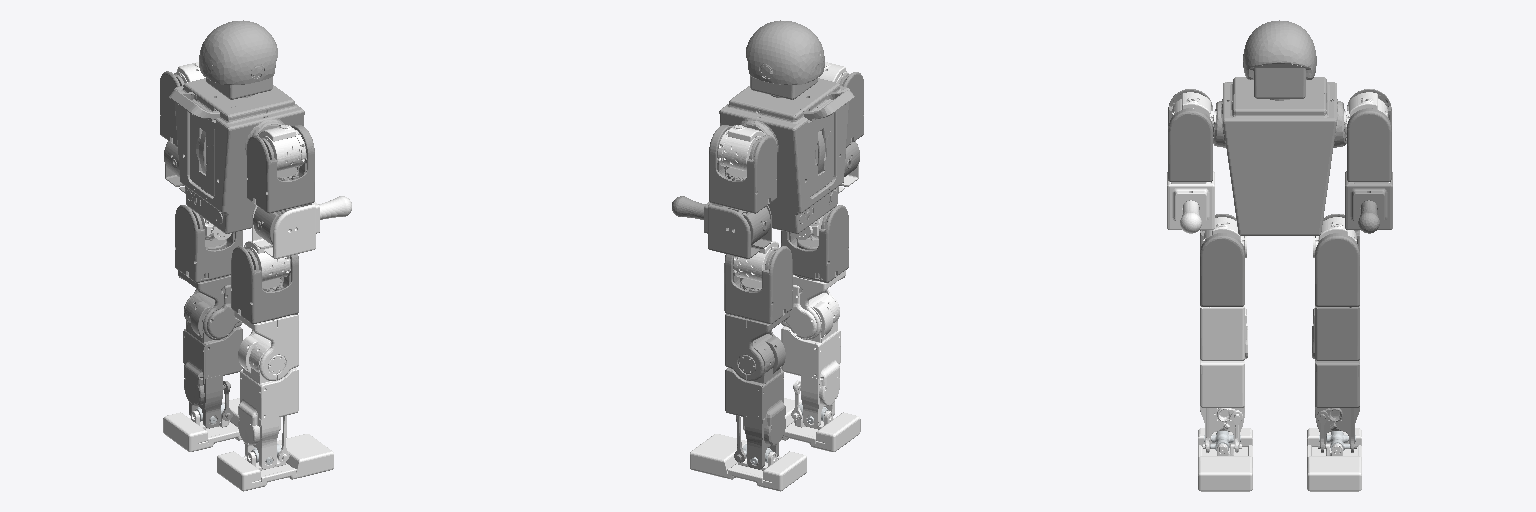
--- What the picture shows (computed from the rendered views, not written in the file) ---
The picture shows the robot from 3 angles, left to right: view 1: azimuth 30°, elevation 25°; view 2: azimuth 150°, elevation 25°; view 3: azimuth 270°, elevation 25°; orthographic projection.
Model nix1 with 22 links and 21 joints (21 revolute), rooted at pelvis, posed every joint at zero.
Links seen in each view (by area): view 1: torso_link, right_knee_link, left_knee_link, right_shoulder_roll_link, right_hip_roll_link, right_ankle_roll_link, left_hip_roll_link, right_elbow_link, right_hip_yaw_link, left_ankle_roll_link, left_hip_yaw_link, right_shoulder_pitch_link (+3 smaller); view 2: torso_link, left_knee_link, right_knee_link, left_shoulder_roll_link, left_hip_roll_link, left_ankle_roll_link, right_hip_roll_link, left_elbow_link, left_hip_yaw_link, right_ankle_roll_link, right_hip_yaw_link, left_shoulder_pitch_link (+3 smaller); view 3: torso_link, right_shoulder_roll_link, left_shoulder_roll_link, right_knee_link, left_knee_link, left_hip_roll_link, right_hip_roll_link, left_ankle_roll_link, right_ankle_roll_link, right_hip_yaw_link, left_hip_yaw_link, right_elbow_link (+5 smaller).
Link boxes in pixels (x1=…): torso_link: x1=169, y1=20, x2=304, y2=233; right_knee_link: x1=238, y1=334, x2=298, y2=469; left_knee_link: x1=183, y1=293, x2=242, y2=428; right_shoulder_roll_link: x1=247, y1=125, x2=314, y2=213; right_hip_roll_link: x1=231, y1=246, x2=298, y2=323; right_ankle_roll_link: x1=217, y1=434, x2=333, y2=491; left_hip_roll_link: x1=175, y1=205, x2=242, y2=282; right_elbow_link: x1=252, y1=196, x2=351, y2=258; right_hip_yaw_link: x1=234, y1=311, x2=298, y2=380; left_ankle_roll_link: x1=163, y1=398, x2=280, y2=451; left_hip_yaw_link: x1=178, y1=270, x2=242, y2=339; right_shoulder_pitch_link: x1=259, y1=125, x2=305, y2=170; torso_link: x1=719, y1=20, x2=854, y2=233; left_knee_link: x1=725, y1=334, x2=785, y2=469; right_knee_link: x1=781, y1=293, x2=840, y2=428; left_shoulder_roll_link: x1=709, y1=125, x2=776, y2=213; left_hip_roll_link: x1=724, y1=246, x2=792, y2=323; left_ankle_roll_link: x1=690, y1=434, x2=806, y2=491; right_hip_roll_link: x1=781, y1=205, x2=848, y2=282; left_elbow_link: x1=672, y1=196, x2=771, y2=258; left_hip_yaw_link: x1=725, y1=311, x2=789, y2=380; right_ankle_roll_link: x1=743, y1=398, x2=860, y2=451; right_hip_yaw_link: x1=781, y1=270, x2=845, y2=339; left_shoulder_pitch_link: x1=718, y1=125, x2=764, y2=170; torso_link: x1=1213, y1=20, x2=1346, y2=235; right_shoulder_roll_link: x1=1168, y1=89, x2=1212, y2=181; left_shoulder_roll_link: x1=1347, y1=89, x2=1391, y2=181; right_knee_link: x1=1200, y1=360, x2=1244, y2=452; left_knee_link: x1=1315, y1=360, x2=1359, y2=452; left_hip_roll_link: x1=1315, y1=214, x2=1359, y2=306; right_hip_roll_link: x1=1200, y1=214, x2=1244, y2=306; left_ankle_roll_link: x1=1307, y1=428, x2=1361, y2=491; right_ankle_roll_link: x1=1198, y1=428, x2=1252, y2=491; right_hip_yaw_link: x1=1200, y1=305, x2=1247, y2=360; left_hip_yaw_link: x1=1312, y1=306, x2=1359, y2=360; right_elbow_link: x1=1167, y1=171, x2=1214, y2=233.
Bounding box of the posed robot: 0.2751 × 0.4133 × 0.8866 m (x, y, z).
Meshes: 22 distinct files referenced, 21 mesh visuals loaded (21 binary STL); not drawn: 1 (reference not matched to a file when rendering).

The robot description file, URDF, robot "nix1":
<?xml version="1.0" encoding="utf-8"?>
<!-- This URDF was automatically created by SolidWorks to URDF Exporter! Originally created by Stephen Brawner ([email redacted]) 
     Commit Version: 1.6.0-4-g7f85cfe  Build Version: 1.6.7995.38578
     For more information, please see http://wiki.ros.org/sw_urdf_exporter -->
<robot name="nix1">
  <mujoco>
        <compiler meshdir="../meshes" discardvisual="false" />
  </mujoco>

  <link name="pelvis">
    <inertial>
      <origin xyz="-0.0009 0 -0.0004" rpy="0 0 0" />
      <mass value="1.616" />
      <inertia
        ixx="0.002888289"
        ixy="-0.000000784"
        ixz="-0.000035362"
        iyy="0.001442911"
        iyz="0.000000285"
        izz="0.002801285" />
    </inertial>
    <visual>
      <origin xyz="0 0 0" rpy="0 0 0" />
      <geometry>
        <mesh filename="../meshes/pelvis.STL" />
      </geometry>
      <material name="a">
        <color rgba="1 1 1 1" />
      </material>
    </visual>
    <!-- <collision>
      <origin xyz="0 0 0" rpy="0 0 0" />
      <geometry>
        <mesh filename="../meshes/pelvis.STL" />
      </geometry>
    </collision> -->
    <collision>
      <origin xyz="-0.00493 0 -0.007691" rpy="0 0 0" />
      <geometry>
        <box size = "0.07974 0.095374 0.1"/>
      </geometry>
    </collision>
  </link>

  <link name="left_hip_pitch_link">
    <inertial>
      <origin xyz="-0.0005 0.0428 0.0007" rpy="0 0 0" />
      <mass value="0.766" />
      <inertia
        ixx="0.000523261"
        ixy="0.000001613"
        ixz="0.000003184"
        iyy="0.000467986"
        iyz="0.000000663"
        izz="0.000514759" />
    </inertial>
    <visual>
      <origin xyz="0 0 0" rpy="0 0 0" />
      <geometry>
        <mesh filename="../meshes/left_hip_pitch_link.STL" />
      </geometry>
      <material name="a">
        <color rgba="1 1 1 1" />
      </material>
    </visual>
    <!-- <collision>
      <origin xyz="0 0 0" rpy="0 0 0" />
      <geometry>
        <mesh filename="../meshes/left_hip_pitch_link.STL" />
      </geometry>
    </collision> -->
    <collision>
      <origin xyz="-0.005 0.044758 0" rpy="0 1.57 0" />
      <geometry>
        <cylinder radius="0.042" length="0.1" />
      </geometry>
    </collision>
  </link>
  <joint name="left_hip_pitch_joint" type="revolute">
    <origin xyz="0 0.0605 0" rpy="0 0 0" />
    <parent link="pelvis" />
    <child link="left_hip_pitch_link" />
    <axis xyz="0 1 0" />
    <limit lower="-1.6755" upper="1.5708" effort="102" velocity="14.6" />
  </joint>

  <link name="left_hip_roll_link">
    <inertial>
      <origin xyz="-0.003 -0.0001 -0.0605" rpy="0 0 0" />
      <mass value="0.991" />
      <inertia
        ixx="0.001405334"
        ixy="-0.000000352"
        ixz="-0.000042984"
        iyy="0.001746772"
        iyz="-0.000009023"
        izz="0.001160529" />
    </inertial>
    <visual>
      <origin xyz="0 0 0" rpy="0 0 0" />
      <geometry>
        <mesh filename="../meshes/left_hip_roll_link.STL" />
      </geometry>
      <material name="a">
        <color rgba="0.698039215686274 0.698039215686274 0.698039215686274 1" />
      </material>
    </visual>
    <!-- <collision>
      <origin xyz="0 0 0" rpy="0 0 0" />
      <geometry>
        <mesh filename="../meshes/left_hip_roll_link.STL" />
      </geometry>
    </collision> -->
    <collision>
      <origin xyz="-0.005435 0 -0.071586" rpy="0 0 0" />
      <geometry>
        <box size = "0.104 0.0812 0.05"/>
      </geometry>
    </collision>
  </link>
  <joint name="left_hip_roll_joint" type="revolute">
    <origin xyz="0 0.044758 0" rpy="0 0 0" />
    <parent link="left_hip_pitch_link" />
    <child link="left_hip_roll_link" />
    <axis xyz="1 0 0" />
    <limit lower="-0.0873" upper="1.8326" effort="102" velocity="14.6" />
  </joint>

  <link name="left_hip_yaw_link">
    <inertial>
      <origin xyz="0.012 0.0025 -0.0415" rpy="0 0 0" />
      <mass value="0.372" />
      <inertia
        ixx="0.000805835"
        ixy="0.000004162"
        ixz="0.000052835"
        iyy="0.000722265"
        iyz="0.000022463"
        izz="0.000556524" />
    </inertial>
    <visual>
      <origin xyz="0 0 0" rpy="0 0 0" />
      <geometry>
        <mesh filename="../meshes/left_hip_yaw_link.STL" />
      </geometry>
      <material name="a">
        <color rgba="0.698039215686274 0.698039215686274 0.698039215686274 1" />
      </material>
    </visual>
    <!-- <collision>
      <origin xyz="0 0 0" rpy="0 0 0" />
      <geometry>
        <mesh filename="../meshes/left_hip_yaw_link.STL" />
      </geometry>
    </collision> -->
    <collision>
      <origin xyz="0.00074 0 -0.053493" rpy="0 0 0" />
      <geometry>
        <box size = "0.0952 0.0812 0.107"/>
      </geometry>
    </collision>
  </link>
  <joint name="left_hip_yaw_joint" type="revolute">
    <origin xyz="-0.0037584 0 -0.104" rpy="0 0 0" />
    <parent link="left_hip_roll_link" />
    <child link="left_hip_yaw_link" />
    <axis xyz="0 0 1" />
    <limit lower="-1.2217" upper="2.0944" effort="102" velocity="14.6" />
  </joint>

  <link name="left_knee_link">
    <inertial>
      <origin xyz="-0.002 -0.0017 -0.071" rpy="0 0 0" />
      <mass value="1.984" />
      <inertia
        ixx="0.009004297"
        ixy="0.000001981"
        ixz="-0.000565720"
        iyy="0.009010355"
        iyz="-0.000336298"
        izz="0.001601147" />
    </inertial>
    <visual>
      <origin xyz="0 0 0" rpy="0 0 0" />
      <geometry>
        <mesh filename="../meshes/left_knee_link.STL" />
      </geometry>
      <material name="a">
        <color rgba="0.698039215686274 0.698039215686274 0.698039215686274 1" />
      </material>
    </visual>
    <!-- <collision>
      <origin xyz="0 0 0" rpy="0 0 0" />
      <geometry>
        <mesh filename="../meshes/left_knee_link.STL" />
      </geometry>
    </collision> -->
    <collision>
      <origin xyz="0.002367 0 -0.095618" rpy="0 0 0" />
      <geometry>
        <box size = "0.0912 0.08 0.148"/>
      </geometry>
    </collision>
  </link>
  <joint name="left_knee_joint" type="revolute">
    <origin xyz="0 0 -0.0915" rpy="0 0 0" />
    <parent link="left_hip_yaw_link" />
    <child link="left_knee_link" />
    <axis xyz="0 1 0" />
    <limit lower="-0.0873" upper="2.1817" effort="102" velocity="14.6" />
  </joint>

  <link name="left_ankle_pitch_link">
    <inertial>
      <origin xyz="0.0085 0.0004 0" rpy="0 0 0" />
      <mass value="0.086" />
      <inertia
        ixx="0.000021923"
        ixy="-0.000000874"
        ixz="0.000000001"
        iyy="0.000025690"
        iyz="0"
        izz="0.000042485" />
    </inertial>
    <visual>
      <origin xyz="0 0 0" rpy="0 0 0" />
      <geometry>
        <mesh filename="../meshes/left_ankle_pitch_link.STL" />
      </geometry>
      <material name="a">
        <color rgba="0.898039215686275 0.917647058823529 0.929411764705882 1" />
      </material>
    </visual>
    <!-- <collision>
      <origin xyz="0 0 0" rpy="0 0 0" />
      <geometry>
        <mesh filename="../meshes/left_ankle_pitch_link.STL" />
      </geometry>
    </collision> -->
  </link>
  <joint name="left_ankle_pitch_joint" type="revolute">
    <origin xyz="-0.011569 -0.0005 -0.19979" rpy="0 0 0" />
    <parent link="left_knee_link" />
    <child link="left_ankle_pitch_link" />
    <axis xyz="0 1 0" />
    <limit lower="-0.6109" upper="0.6109" effort="20" velocity="30" />
  </joint>

  <link name="left_ankle_roll_link">
    <inertial>
      <origin xyz="0.032 -0.0043 -0.027" rpy="0 0 0" />
      <mass value="0.375" />
      <inertia
        ixx="0.000301298"
        ixy="0.000007138"
        ixz="0.000014230"
        iyy="0.001232323"
        iyz="-0.000002953"
        izz="0.001436745" />
    </inertial>
    <visual>
      <origin xyz="0 0 0" rpy="0 0 0" />
      <geometry>
        <mesh filename="../meshes/left_ankle_roll_link.STL" />
      </geometry>
      <material name="a">
        <color rgba="1 1 1 1" />
      </material>
    </visual>
    <!-- <collision>
      <origin xyz="0 0 0" rpy="0 0 0" />
      <geometry>
        <mesh filename="../meshes/left_ankle_roll_link.STL" />
      </geometry>
    </collision> -->
    <collision>
      <origin xyz="-0.038 -0.005 -0.036" rpy="0 0 0" />
      <geometry>
        <box size = "0.048 0.1 0.016"/>
      </geometry>
    </collision>
    <collision>
      <origin xyz="0.0885 -0.005 -0.036" rpy="0 0 0" />
      <geometry>
        <box size = "0.09 0.1 0.016"/>
      </geometry>
    </collision>
  </link>
  <joint name="left_ankle_roll_joint" type="revolute">
    <origin xyz="0 0 0" rpy="0 0 0" />
    <parent link="left_ankle_pitch_link" />
    <child link="left_ankle_roll_link" />
    <axis xyz="1 0 0" />
    <limit lower="-0.3491" upper="0.3491" effort="20" velocity="30" />
  </joint>

  <link name="right_hip_pitch_link">
    <inertial>
      <origin xyz="-0.0005 -0.043 0.0006" rpy="0 0 0" />
      <mass value="0.766" />
      <inertia
        ixx="0.000523064"
        ixy="0.000000584"
        ixz="0.000002028"
        iyy="0.000466476"
        iyz="-0.000002781"
        izz="0.000516070" />
    </inertial>
    <visual>
      <origin xyz="0 0 0" rpy="0 0 0" />
      <geometry>
        <mesh filename="../meshes/right_hip_pitch_link.STL" />
      </geometry>
      <material name="a">
        <color rgba="1 1 1 1" />
      </material>
    </visual>
    <!-- <collision>
      <origin xyz="0 0 0" rpy="0 0 0" />
      <geometry>
        <mesh filename="../meshes/right_hip_pitch_link.STL" />
      </geometry>
    </collision> -->
    <collision>
      <origin xyz="-0.005 -0.044758 0" rpy="0 1.57 0" />
      <geometry>
        <cylinder radius="0.042" length="0.1" />
      </geometry>
    </collision>
  </link>
  <joint name="right_hip_pitch_joint" type="revolute">
    <origin xyz="0 -0.0605 0" rpy="0 0 0" />
    <parent link="pelvis" />
    <child link="right_hip_pitch_link" />
    <axis xyz="0 1 0" />
    <limit lower="-1.6755" upper="1.5708" effort="102" velocity="14.6" />
  </joint>

  <link name="right_hip_roll_link">
    <inertial>
      <origin xyz="-0.003 0.0002 -0.0605" rpy="0 0 0" />
      <mass value="0.991" />
      <inertia
        ixx="0.001405315"
        ixy="0.000001033"
        ixz="-0.000044718"
        iyy="0.001746703"
        iyz="0.000007108"
        izz="0.001160439" />
    </inertial>
    <visual>
      <origin xyz="0 0 0" rpy="0 0 0" />
      <geometry>
        <mesh filename="../meshes/right_hip_roll_link.STL" />
      </geometry>
      <material name="a">
        <color rgba="0.698039215686274 0.698039215686274 0.698039215686274 1" />
      </material>
    </visual>
    <!-- <collision>
      <origin xyz="0 0 0" rpy="0 0 0" />
      <geometry>
        <mesh filename="../meshes/right_hip_roll_link.STL" />
      </geometry>
    </collision> -->
    <collision>
      <origin xyz="-0.005435 0 -0.071586" rpy="0 0 0" />
      <geometry>
        <box size = "0.104 0.0812 0.05"/>
      </geometry>
    </collision>
  </link>
  <joint name="right_hip_roll_joint" type="revolute">
    <origin xyz="0 -0.044758 0" rpy="0 0 0" />
    <parent link="right_hip_pitch_link" />
    <child link="right_hip_roll_link" />
    <axis xyz="1 0 0" />
    <limit lower="-1.8326" upper="0.0873" effort="102" velocity="14.6" />
  </joint>

  <link name="right_hip_yaw_link">
    <inertial>
      <origin xyz="0.012 -0.0025 -0.0415" rpy="0 0 0" />
      <mass value="0.372" />
      <inertia
        ixx="0.000805788"
        ixy="-0.000004162"
        ixz="0.000005285"
        iyy="0.000722218"
        iyz="-0.000022483"
        izz="0.000556524" />
    </inertial>
    <visual>
      <origin xyz="0 0 0" rpy="0 0 0" />
      <geometry>
        <mesh filename="../meshes/right_hip_yaw_link.STL" />
      </geometry>
      <material name="a">
        <color rgba="1 1 1 1" />
      </material>
    </visual>
    <!-- <collision>
      <origin xyz="0 0 0" rpy="0 0 0" />
      <geometry>
        <mesh filename="../meshes/right_hip_yaw_link.STL" />
      </geometry>
    </collision> -->
    <collision>
      <origin xyz="0.00074 0 -0.053493" rpy="0 0 0" />
      <geometry>
        <box size = "0.0952 0.0812 0.107"/>
      </geometry>
    </collision>
  </link>
  <joint name="right_hip_yaw_joint" type="revolute">
    <origin xyz="-0.0037584 0 -0.104" rpy="0 0 0" />
    <parent link="right_hip_roll_link" />
    <child link="right_hip_yaw_link" />
    <axis xyz="0 0 1" />
    <limit lower="-2.0944" upper="1.2217" effort="102" velocity="14.6" />
  </joint>

  <link name="right_knee_link">
    <inertial>
      <origin xyz="-0.002 0.0017 -0.0711" rpy="0 0 0" />
      <mass value="1.984" />
      <inertia
        ixx="0.009013346"
        ixy="-0.000003493"
        ixz="-0.000565961"
        iyy="0.009019073"
        iyz="0.000334853"
        izz="0.001597885" />
    </inertial>
    <visual>
      <origin xyz="0 0 0" rpy="0 0 0" />
      <geometry>
        <mesh filename="../meshes/right_knee_link.STL" />
      </geometry>
      <material name="a">
        <color rgba="1 1 1 1" />
      </material>
    </visual>
    <!-- <collision>
      <origin xyz="0 0 0" rpy="0 0 0" />
      <geometry>
        <mesh filename="../meshes/right_knee_link.STL" />
      </geometry>
    </collision> -->
    <collision>
      <origin xyz="0.002367 0 -0.095618" rpy="0 0 0" />
      <geometry>
        <box size = "0.0912 0.08 0.148"/>
      </geometry>
    </collision>
  </link>
  <joint name="right_knee_joint" type="revolute">
    <origin xyz="0 0 -0.0915" rpy="0 0 0" />
    <parent link="right_hip_yaw_link" />
    <child link="right_knee_link" />
    <axis xyz="0 1 0" />
    <limit lower="-0.0873" upper="2.1817" effort="102" velocity="14.6" />
  </joint>

  <link name="right_ankle_pitch_link">
    <inertial>
      <origin xyz="0.0085 -0.0004 0" rpy="0 0 0" />
      <mass value="0.086" />
      <inertia
        ixx="0.000021923"
        ixy="0.000000875"
        ixz="-0.000000003"
        iyy="0.000025691"
        iyz="0.000000001"
        izz="0.000042484" />
    </inertial>
    <visual>
      <origin xyz="0 0 0" rpy="0 0 0" />
      <geometry>
        <mesh filename="../meshes/right_ankle_pitch_link.STL" />
      </geometry>
      <material name="a">
        <color rgba="0.898039215686275 0.917647058823529 0.929411764705882 1" />
      </material>
    </visual>
    <!-- <collision>
      <origin xyz="0 0 0" rpy="0 0 0" />
      <geometry>
        <mesh filename="../meshes/right_ankle_pitch_link.STL" />
      </geometry>
    </collision> -->
  </link>
  <joint name="right_ankle_pitch_joint" type="revolute">
    <origin xyz="-0.011569 0.0005 -0.19979" rpy="0 0 0" />
    <parent link="right_knee_link" />
    <child link="right_ankle_pitch_link" />
    <axis xyz="0 1 0" />
    <limit lower="-0.6109" upper="0.6109" effort="20" velocity="30" />
  </joint>

  <link name="right_ankle_roll_link">
    <inertial>
      <origin xyz="0.032 0.0043 -0.027" rpy="0 0 0" />
      <mass value="0.375" />
      <inertia
        ixx="0.000301298"
        ixy="-0.000007136"
        ixz="0.000014230"
        iyy="0.001232323"
        iyz="0.000002953"
        izz="0.001436745" />
    </inertial>
    <visual>
      <origin xyz="0 0 0" rpy="0 0 0" />
      <geometry>
        <mesh filename="../meshes/right_ankle_roll_link.STL" />
      </geometry>
      <material name="a">
        <color rgba="1 1 1 1" />
      </material>
    </visual>
    <!-- <collision>
      <origin xyz="0 0 0" rpy="0 0 0" />
      <geometry>
        <mesh filename="../meshes/right_ankle_roll_link.STL" />
      </geometry>
    </collision> -->
    <collision>
      <origin xyz="-0.038 0.005 -0.036" rpy="0 0 0" />
      <geometry>
        <box size = "0.048 0.1 0.016"/>
      </geometry>
    </collision>
    <collision>
      <origin xyz="0.0885 0.005 -0.036" rpy="0 0 0" />
      <geometry>
        <box size = "0.09 0.1 0.016"/>
      </geometry>
    </collision>
  </link>
  <joint name="right_ankle_roll_joint" type="revolute">
    <origin xyz="0 0 0" rpy="0 0 0" />
    <parent link="right_ankle_pitch_link" />
    <child link="right_ankle_roll_link" />
    <axis xyz="1 0 0" />
    <limit lower="-0.3491" upper="0.3491" effort="20" velocity="30" />
  </joint>

  <link name="torso_link">
    <inertial>
      <origin xyz="-0.0103 0 -0.0419" rpy="0 0 0" />
      <mass value="6.618" />
      <inertia
        ixx="0.063598754"
        ixy="0.000094329"
        ixz="0.001762585"
        iyy="0.055623416"
        iyz="0.000044694"
        izz="0.031791856" />
    </inertial>
    <visual>
      <origin xyz="0 0 0" rpy="0 0 0" />
      <geometry>
        <mesh filename="../meshes/torso_link.STL" />
      </geometry>
      <material name="a">
        <color rgba="0.752941176470588 0.752941176470588 0.752941176470588 1" />
      </material>
    </visual>
    <!-- <collision>
      <origin xyz="0 0 0" rpy="0 0 0" />
      <geometry>
        <mesh filename="../meshes/torso_link.STL" />
      </geometry>
    </collision> -->
    <collision>
      <origin xyz="0 0 -0.064322" rpy="0 0 0" />
      <geometry>
        <box size = "0.164 0.149 0.248"/>
      </geometry>
    </collision>
  </link>
  <joint name="torso_joint" type="revolute">
    <origin xyz="0 0 0.24776" rpy="0 0 0" />
    <parent link="pelvis" />
    <child link="torso_link" />
    <axis xyz="0 0 1" />
    <limit lower="-1.5708" upper="1.5708" effort="102" velocity="14.6" />
  </joint>

  <link name="left_shoulder_pitch_link">
    <inertial>
      <origin xyz="-0.0005 0.0423 0.0007" rpy="0 0 0" />
      <mass value="0.766" />
      <inertia
        ixx="0.000523261"
        ixy="0.000001613"
        ixz="0.000003184"
        iyy="0.000467986"
        iyz="0.000000664"
        izz="0.000514759" />
    </inertial>
    <visual>
      <origin xyz="0 0 0" rpy="0 0 0" />
      <geometry>
        <mesh filename="../meshes/left_shoulder_pitch_link.STL" />
      </geometry>
      <material name="a">
        <color rgba="1 1 1 1" />
      </material>
    </visual>
    <!-- <collision>
      <origin xyz="0 0 0" rpy="0 0 0" />
      <geometry>
        <mesh filename="../meshes/left_shoulder_pitch_link.STL" />
      </geometry>
    </collision> -->
    <collision>
      <origin xyz="-0.005 0.044258 0" rpy="0 1.57 0" />
      <geometry>
        <cylinder radius="0.042" length="0.1" />
      </geometry>
    </collision>
  </link>
  <joint name="left_shoulder_pitch_joint" type="revolute">
    <origin xyz="0 0.119 0" rpy="0.087266 0 0" />
    <parent link="torso_link" />
    <child link="left_shoulder_pitch_link" />
    <axis xyz="0 1 0" />
    <limit lower="-2.7925" upper="2.7925" effort="102" velocity="14.6" />
  </joint>

  <link name="left_shoulder_roll_link">
    <inertial>
      <origin xyz="-0.003 -0.0001 -0.0602" rpy="0 0 0" />
      <mass value="0.995" />
      <inertia
        ixx="0.001421423"
        ixy="-0.000000361"
        ixz="-0.000052940"
        iyy="0.001769014"
        iyz="-0.000009040"
        izz="0.001167652" />
    </inertial>
    <visual>
      <origin xyz="0 0 0" rpy="0 0 0" />
      <geometry>
        <mesh filename="../meshes/left_shoulder_roll_link.STL" />
      </geometry>
      <material name="a">
        <color rgba="0.698039215686274 0.698039215686274 0.698039215686274 1" />
      </material>
    </visual>
    <!-- <collision>
      <origin xyz="0 0 0" rpy="0 0 0" />
      <geometry>
        <mesh filename="../meshes/left_shoulder_roll_link.STL" />
      </geometry>
    </collision> -->
    <collision>
      <origin xyz="-0.005435 0 -0.071586" rpy="0 0 0" />
      <geometry>
        <box size = "0.104 0.0812 0.05"/>
      </geometry>
    </collision>
  </link>
  <joint name="left_shoulder_roll_joint" type="revolute">
    <origin xyz="0 0.044258 0" rpy="-0.087266 0 0" />
    <parent link="left_shoulder_pitch_link" />
    <child link="left_shoulder_roll_link" />
    <axis xyz="1 0 0" />
    <limit lower="0" upper="1.9199" effort="102" velocity="14.6" />
  </joint>

  <link name="left_shoulder_yaw_link">
    <inertial>
      <origin xyz="-0.0001 0.0011 -0.0404" rpy="0 0 0" />
      <mass value="0.855" />
      <inertia
        ixx="0.000625521"
        ixy="-0.000001372"
        ixz="0.000000262"
        iyy="0.000671958"
        iyz="0.000002802"
        izz="0.000594570" />
    </inertial>
    <visual>
      <origin xyz="0 0 0" rpy="0 0 0" />
      <geometry>
        <mesh filename="../meshes/left_shoulder_yaw_link.STL" />
      </geometry>
      <material name="a">
        <color rgba="0.698039215686274 0.698039215686274 0.698039215686274 1" />
      </material>
    </visual>
    <!-- <collision>
      <origin xyz="0 0 0" rpy="0 0 0" />
      <geometry>
        <mesh filename="../meshes/left_shoulder_yaw_link.STL" />
      </geometry>
    </collision> -->
  </link>
  <joint name="left_shoulder_yaw_joint" type="revolute">
    <origin xyz="-0.0037584 0 -0.104" rpy="0 0 0" />
    <parent link="left_shoulder_roll_link" />
    <child link="left_shoulder_yaw_link" />
    <axis xyz="0 0 1" />
    <limit lower="-1.885" upper="1.885" effort="102" velocity="14.6" />
  </joint>

  <link name="left_elbow_link">
    <inertial>
      <origin xyz="-0.0095 -0.0035 -0.040" rpy="0 0 0" />
      <mass value="0.353" />
      <inertia
        ixx="0.000977250"
        ixy="0.000003735"
        ixz="0.000101902"
        iyy="0.000907157"
        iyz="0.000035686"
        izz="0.000492087" />
    </inertial>
    <visual>
      <origin xyz="0 0 0" rpy="0 0 0" />
      <geometry>
        <mesh filename="../meshes/left_elbow_link.STL" />
      </geometry>
      <material name="a">
        <color rgba="0.698039215686274 0.698039215686274 0.698039215686274 1" />
      </material>
    </visual>
    <!-- <collision>
      <origin xyz="0 0 0" rpy="0 0 0" />
      <geometry>
        <mesh filename="../meshes/left_elbow_link.STL" />
      </geometry>
    </collision> -->
    <collision>
      <origin xyz="-0.0205 -0.000342 -0.005649" rpy="0 0 0" />
      <geometry>
        <box size = "0.0633 0.087 0.09"/>
      </geometry>
    </collision>
    <collision>
      <origin xyz="0 -0.000342 -0.101629" rpy="0 0 0" />
      <geometry>
        <cylinder radius="0.0285" length="0.0981" />
      </geometry>
    </collision>
  </link>
  <joint name="left_elbow_joint" type="revolute">
    <origin xyz="0 0 -0.041258" rpy="0 -1.5708 0" />
    <parent link="left_shoulder_yaw_link" />
    <child link="left_elbow_link" />
    <axis xyz="0 1 0" />
    <limit lower="0" upper="1.5708" effort="102" velocity="14.6" />
  </joint>

  <link name="right_shoulder_pitch_link">
    <inertial>
      <origin xyz="-0.0005 -0.042 0.0006" rpy="0 0 0" />
      <mass value="0.766" />
      <inertia
        ixx="0.000523064"
        ixy="0.000000584"
        ixz="0.000002028"
        iyy="0.000466476"
        iyz="-0.000002782"
        izz="0.000516070" />
    </inertial>
    <visual>
      <origin xyz="0 0 0" rpy="0 0 0" />
      <geometry>
        <mesh filename="../meshes/right_shoulder_pitch_link.STL" />
      </geometry>
      <material name="a">
        <color rgba="1 1 1 1" />
      </material>
    </visual>
    <!-- <collision>
      <origin xyz="0 0 0" rpy="0 0 0" />
      <geometry>
        <mesh filename="../meshes/right_shoulder_pitch_link.STL" />
      </geometry>
    </collision> -->
    <collision>
      <origin xyz="-0.005 -0.044258 0" rpy="0 1.57 0" />
      <geometry>
        <cylinder radius="0.042" length="0.1" />
      </geometry>
    </collision>
  </link>
  <joint name="right_shoulder_pitch_joint" type="revolute">
    <origin xyz="0 -0.119 0" rpy="-0.087266 0 0" />
    <parent link="torso_link" />
    <child link="right_shoulder_pitch_link" />
    <axis xyz="0 1 0" />
    <limit lower="-2.7925" upper="2.7925" effort="102" velocity="14.6" />
  </joint>

  <link name="right_shoulder_roll_link">
    <inertial>
      <origin xyz="-0.003 0.0002 -0.0602" rpy="0 0 0" />
      <mass value="0.995" />
      <inertia
        ixx="0.001421403"
        ixy="0.000001059"
        ixz="-0.000054657"
        iyy="0.001768924"
        iyz="0.000007148"
        izz="0.001167540" />
    </inertial>
    <visual>
      <origin xyz="0 0 0" rpy="0 0 0" />
      <geometry>
        <mesh filename="../meshes/right_shoulder_roll_link.STL" />
      </geometry>
      <material name="a">
        <color rgba="0.698039215686274 0.698039215686274 0.698039215686274 1" />
      </material>
    </visual>
    <!-- <collision>
      <origin xyz="0 0 0" rpy="0 0 0" />
      <geometry>
        <mesh filename="../meshes/right_shoulder_roll_link.STL" />
      </geometry>
    </collision> -->
    <collision>
      <origin xyz="-0.005435 0 -0.071586" rpy="0 0 0" />
      <geometry>
        <box size = "0.104 0.0812 0.05"/>
      </geometry>
    </collision>
  </link>
  <joint name="right_shoulder_roll_joint" type="revolute">
    <origin xyz="0 -0.044258 0" rpy="0.087266 0 0" />
    <parent link="right_shoulder_pitch_link" />
    <child link="right_shoulder_roll_link" />
    <axis xyz="1 0 0" />
    <limit lower="-1.9199" upper="0" effort="102" velocity="14.6" />
  </joint>

  <link name="right_shoulder_yaw_link">
    <inertial>
      <origin xyz="-0.0002 -0.0011 -0.0405" rpy="0 0 0" />
      <mass value="0.855" />
      <inertia
        ixx="0.000624063"
        ixy="0.000000241"
        ixz="-0.000001833"
        iyy="0.000672047"
        iyz="-0.000004959"
        izz="0.000596117" />
    </inertial>
    <visual>
      <origin xyz="0 0 0" rpy="0 0 0" />
      <geometry>
        <mesh filename="../meshes/right_shoulder_yaw_link.STL" />
      </geometry>
      <material name="a">
        <color rgba="0.698039215686274 0.698039215686274 0.698039215686274 1" />
      </material>
    </visual>
    <!-- <collision>
      <origin xyz="0 0 0" rpy="0 0 0" />
      <geometry>
        <mesh filename="../meshes/right_shoulder_yaw_link.STL" />
      </geometry>
    </collision> -->
  </link>
  <joint name="right_shoulder_yaw_joint" type="revolute">
    <origin xyz="-0.0037584 0 -0.104" rpy="0 0 0" />
    <parent link="right_shoulder_roll_link" />
    <child link="right_shoulder_yaw_link" />
    <axis xyz="0 0 1" />
    <limit lower="-1.885" upper="1.885" effort="102" velocity="14.6" />
  </joint>

  <link name="right_elbow_link">
    <inertial>
      <origin xyz="-0.0095 0.0035 -0.040" rpy="0 0 0" />
      <mass value="0.353" />
      <inertia
        ixx="0.000977250"
        ixy="-0.000003736"
        ixz="0.000101902"
        iyy="0.000907157"
        iyz="-0.000035685"
        izz="0.000492087" />
    </inertial>
    <visual>
      <origin xyz="0 0 0" rpy="0 0 0" />
      <geometry>
        <mesh filename="../meshes/right_elbow_link.STL" />
      </geometry>
      <material name="a">
        <color rgba="1 1 1 1" />
      </material>
    </visual>
    <!-- <collision>
      <origin xyz="0 0 0" rpy="0 0 0" />
      <geometry>
        <mesh filename="../meshes/right_elbow_link.STL" />
      </geometry>
    </collision> -->
    <collision>
      <origin xyz="-0.0205 0.000342 -0.005649" rpy="0 0 0" />
      <geometry>
        <box size = "0.0633 0.087 0.09"/>
      </geometry>
    </collision>
    <collision>
      <origin xyz="0 0.000342 -0.101629" rpy="0 0 0" />
      <geometry>
        <cylinder radius="0.0285" length="0.0981" />
      </geometry>
    </collision>
  </link>
  <joint name="right_elbow_joint" type="revolute">
    <origin xyz="0 0 -0.041258" rpy="0 -1.5708 0" />
    <parent link="right_shoulder_yaw_link" />
    <child link="right_elbow_link" />
    <axis xyz="0 1 0" />
    <limit lower="0" upper="1.5708" effort="102" velocity="14.6" />
  </joint>
</robot>
